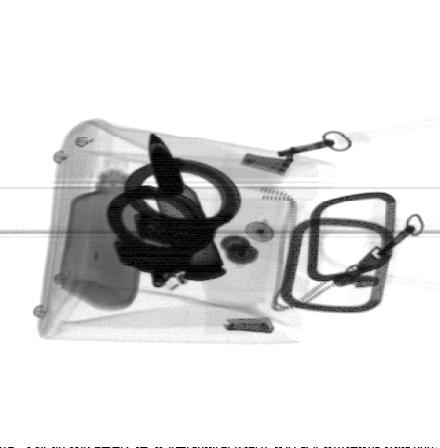Bullet: (147, 133, 230, 282)
HandCuffs: (105, 157, 241, 288)
